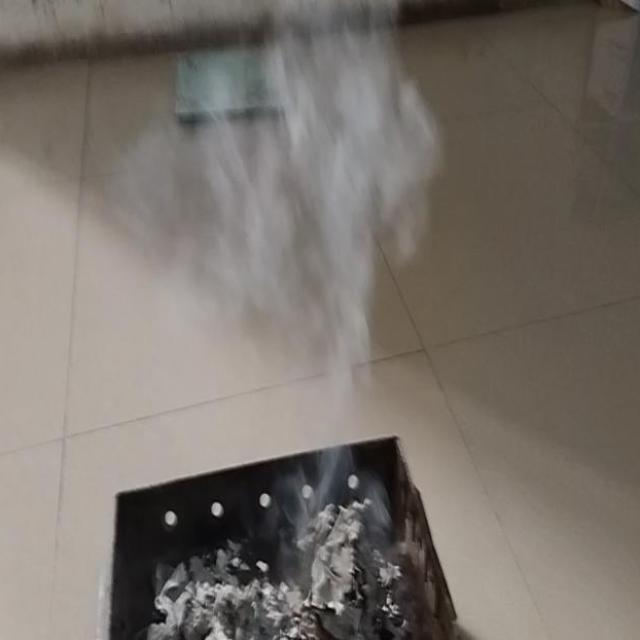fire: (206, 0, 440, 379)
